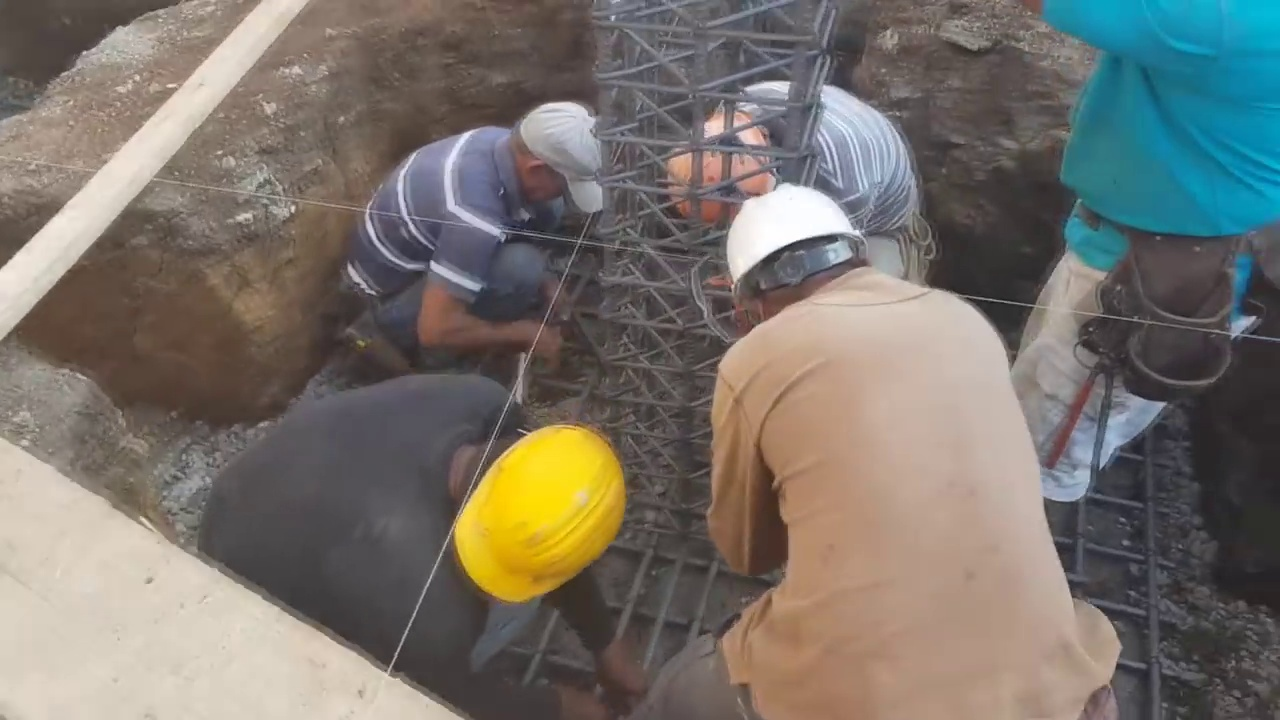helmet: (454, 420, 628, 611), (722, 183, 866, 297), (671, 98, 771, 233)
helmet-off: (503, 99, 600, 212)
helmet-on: (428, 402, 633, 616), (721, 178, 884, 332), (673, 95, 786, 236)
person: (672, 177, 1121, 715), (152, 392, 680, 701), (1021, 8, 1280, 527), (355, 89, 607, 377), (674, 76, 935, 281)
